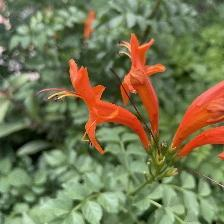honeysuckle: (36, 64, 122, 147), (169, 78, 224, 150), (123, 37, 166, 127), (180, 127, 224, 161)
